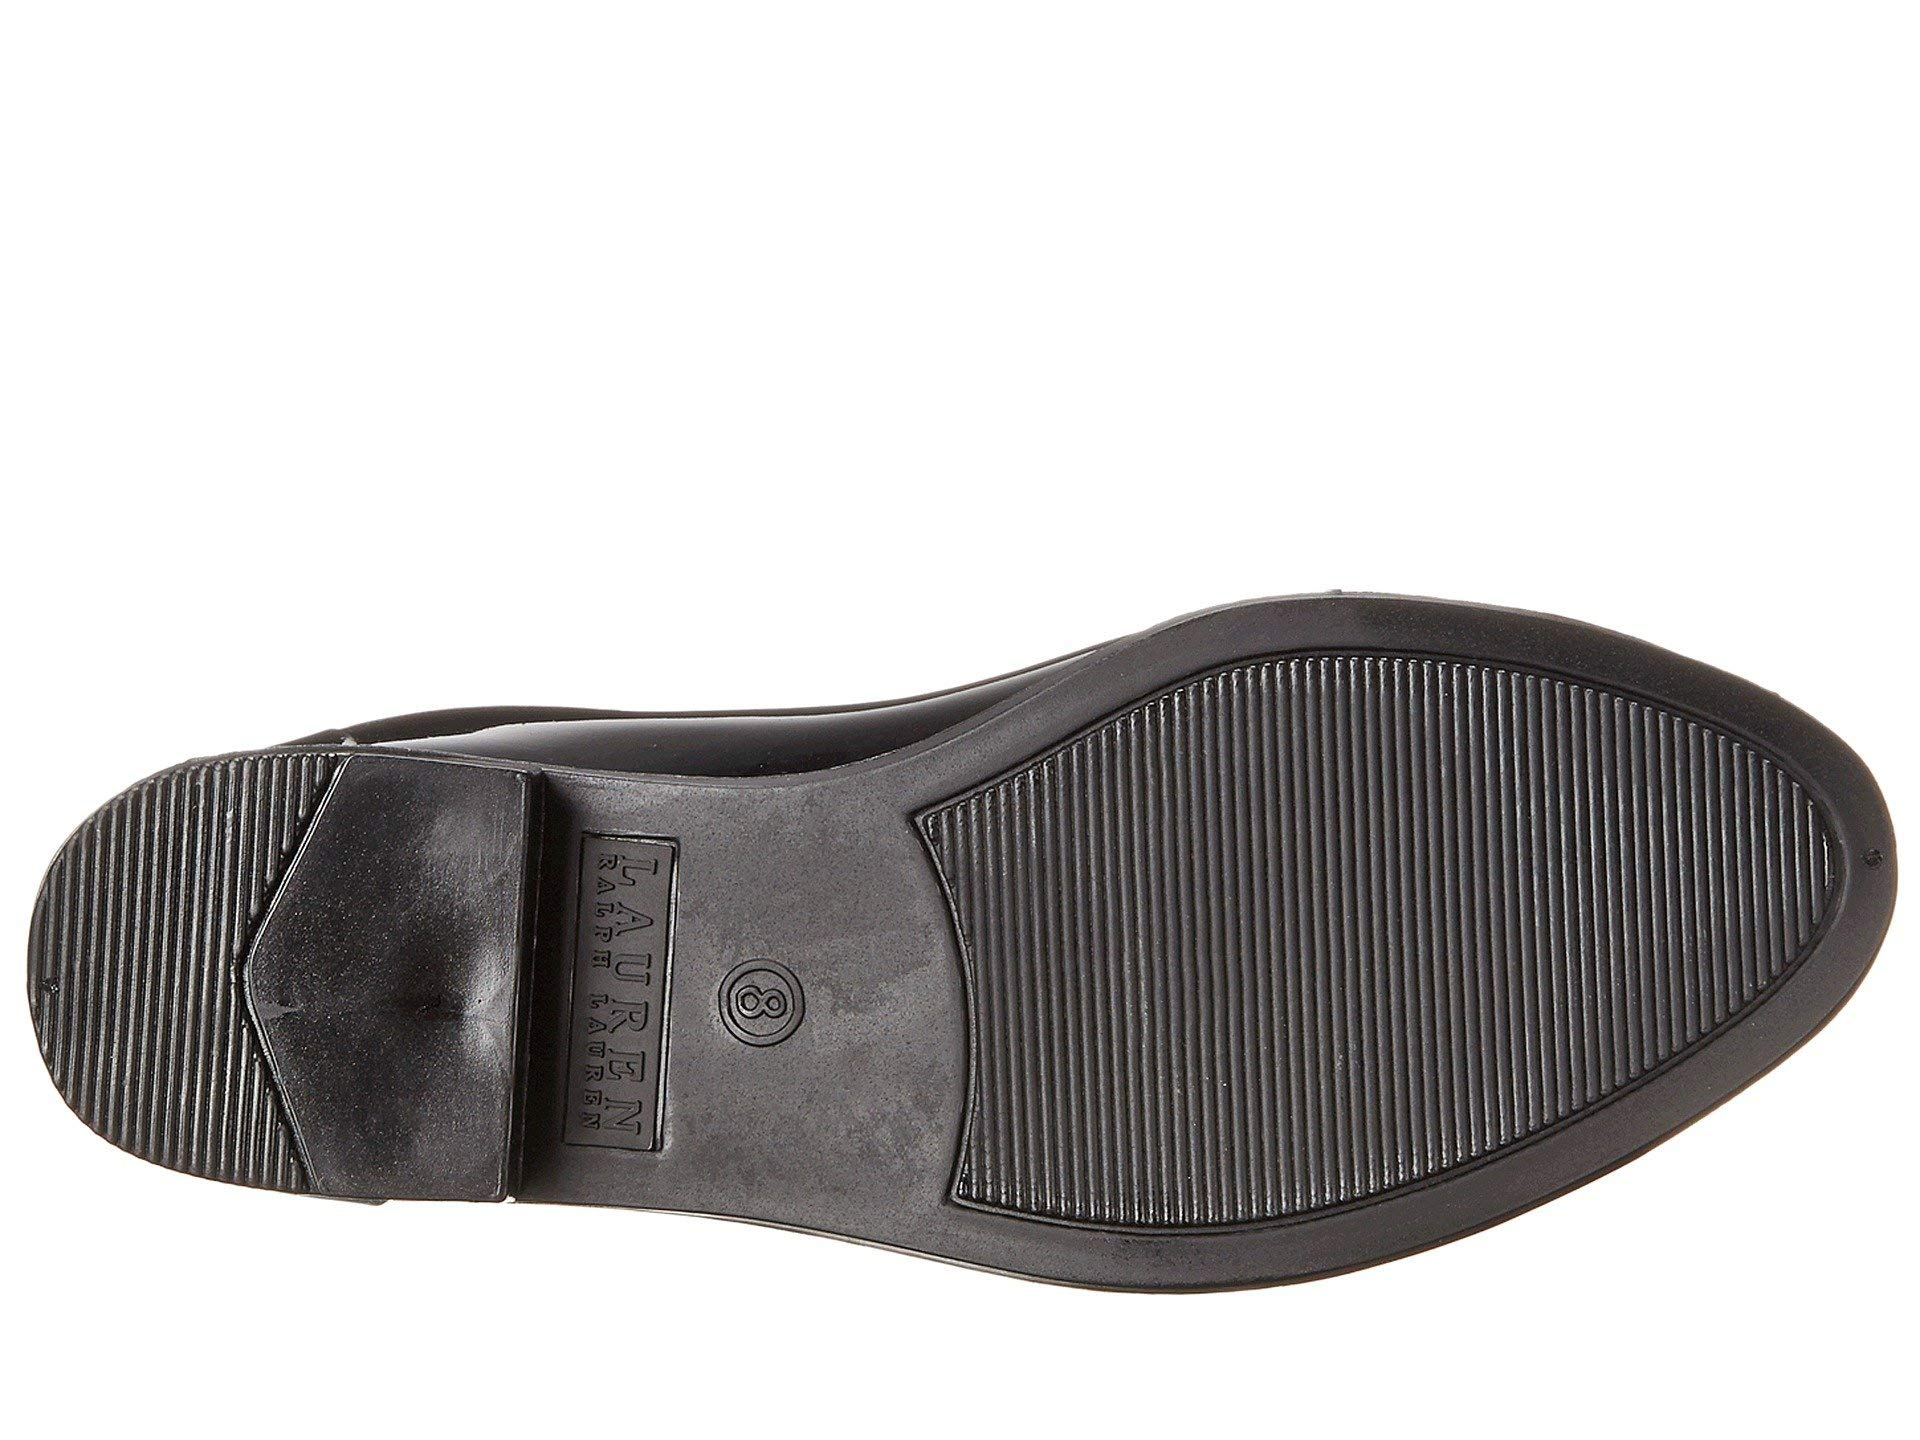circle: (698, 957, 810, 1051)
line: (1008, 750, 1695, 1026), (248, 753, 525, 1203), (62, 809, 204, 1091)
polygon: (248, 753, 525, 1203)
quad: (562, 809, 680, 1168)
text: (562, 809, 680, 1168), (698, 957, 810, 1051)
